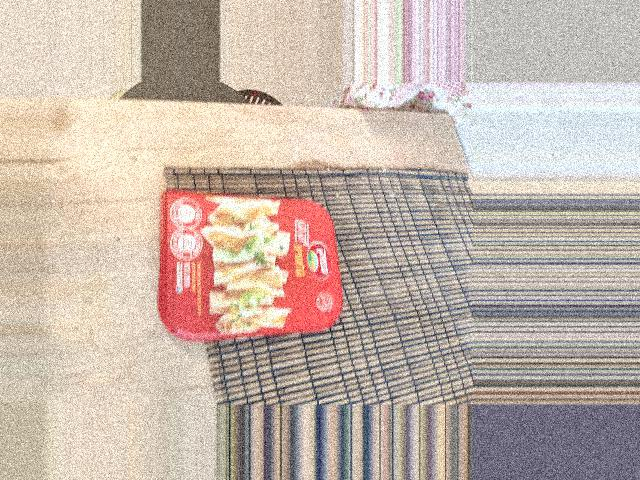cheese: (269, 214, 393, 404)
